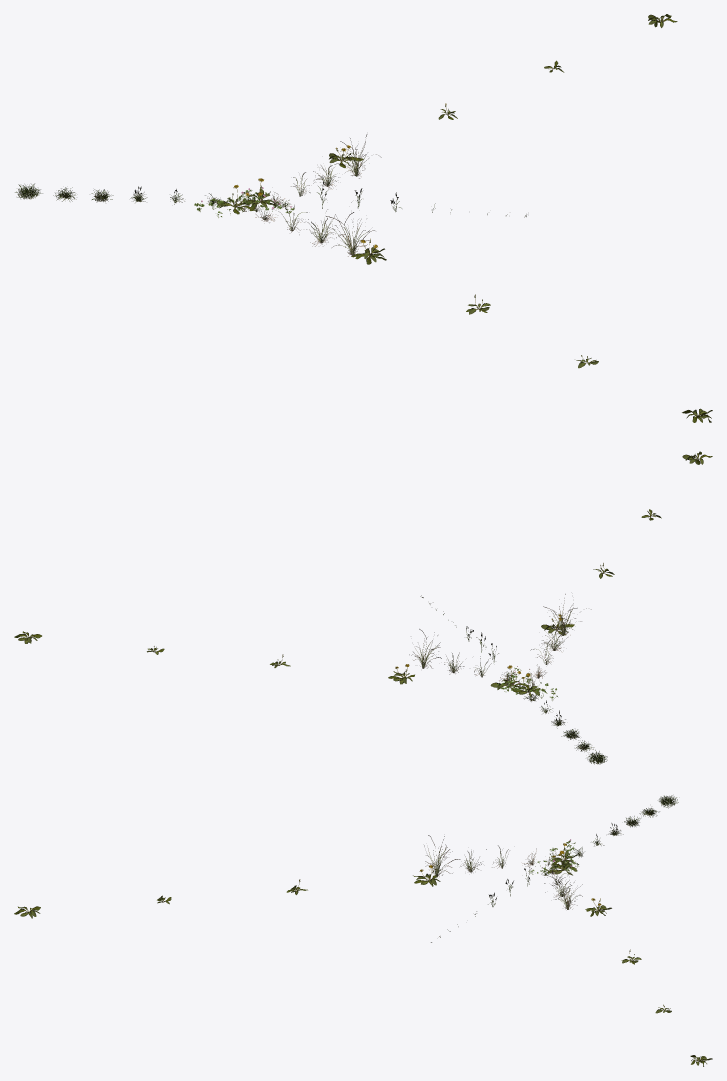
File: grass.glb
3 views of the same model, one above another, from view 1: azimuth 30°, elevation 25°; view 2: azimuth 150°, elevation 25°; view 3: azimuth 270°, elevation 25° (orthographic). The views are drawn at different scales.
Parts seen in each view (by area): view 1: grass_dandelion_01, grass_grass_medium_02, grass_medium_01; view 2: grass_dandelion_01, grass_grass_medium_02, grass_medium_01; view 3: grass_dandelion_01, grass_grass_medium_02, grass_medium_01.
Boxes of the visible parts, x1,y1,x2,y2 form: grass_dandelion_01: [216, 14, 712, 422]; grass_grass_medium_02: [241, 134, 381, 256]; grass_medium_01: [15, 181, 526, 217]; grass_dandelion_01: [14, 451, 712, 697]; grass_grass_medium_02: [409, 594, 591, 686]; grass_medium_01: [420, 595, 607, 764]; grass_dandelion_01: [14, 843, 712, 1066]; grass_grass_medium_02: [424, 835, 582, 909]; grass_medium_01: [431, 795, 678, 942].
Bounding box in the file's own units: 5.26 × 0.3781 × 5.79.
Materials: 4 (4 with a texture image).
